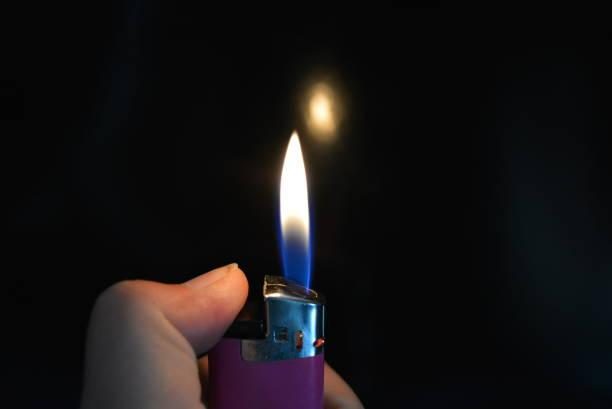Fire: (274, 130, 316, 293)
